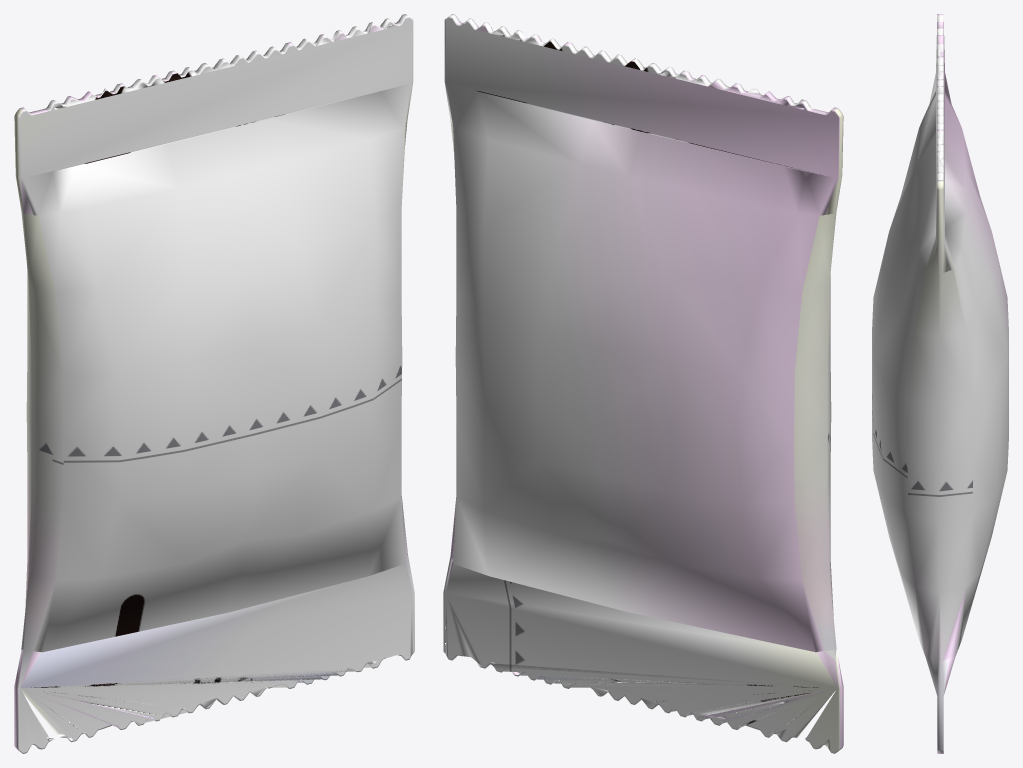
File: aidecks-pack.glb
3 views of the same model, side by side, from view 1: azimuth 30°, elevation 25°; view 2: azimuth 150°, elevation 25°; view 3: azimuth 270°, elevation 25° (orthographic). The views are drawn at different scales.
Bounding box in the file's own units: 1.29 × 2 × 0.4312.
Materials: 1 (1 with a texture image).
